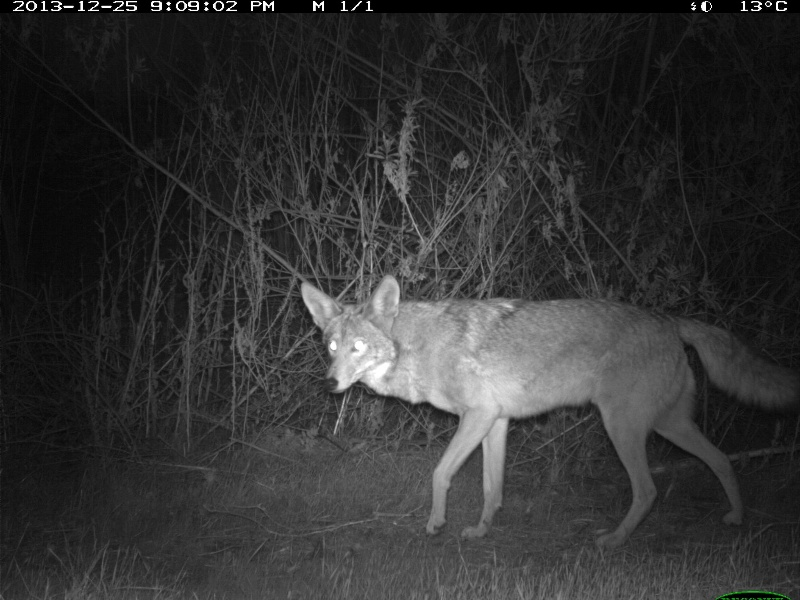coyote: (298, 276, 800, 547)
